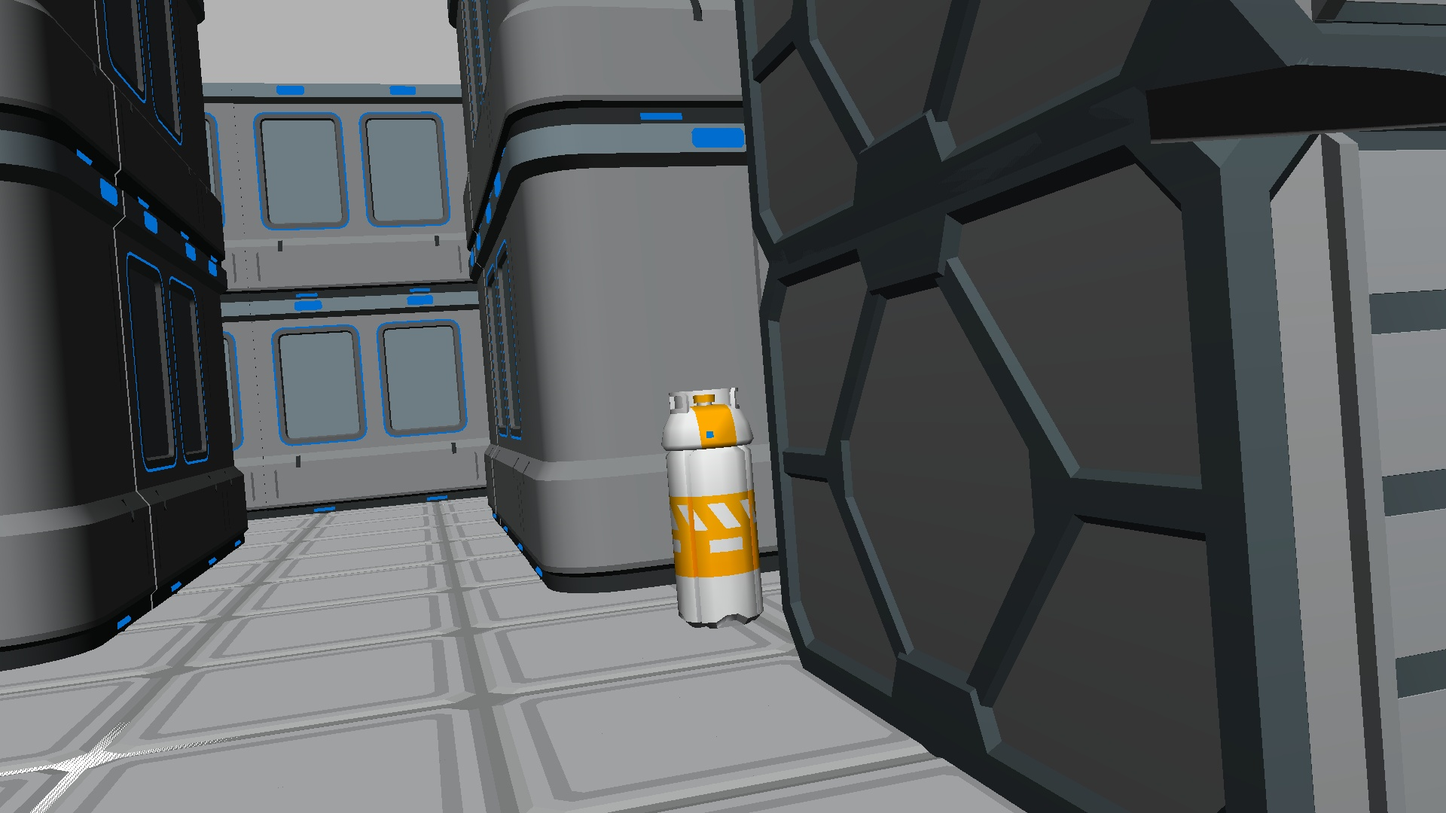yellow barrel: (662, 388, 763, 628)
